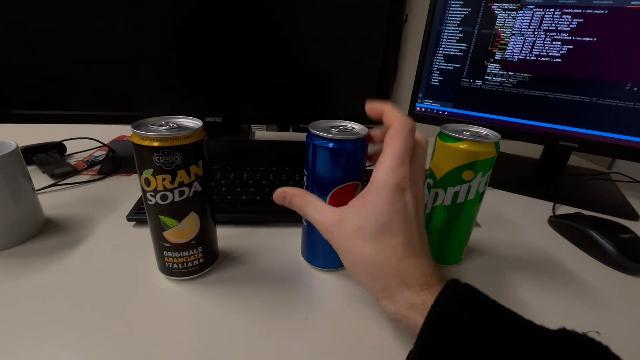OranSoda: (130, 115, 222, 282)
Pepsi: (300, 117, 370, 274)
Sprite: (423, 121, 505, 270)
